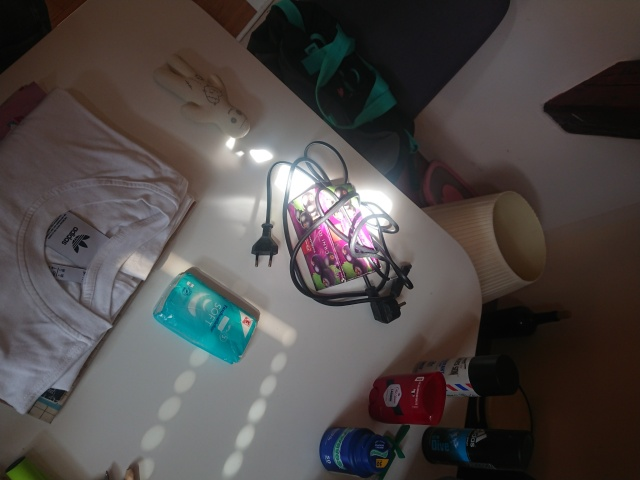Franck Black Currant Tea 60g: (285, 180, 383, 292)
